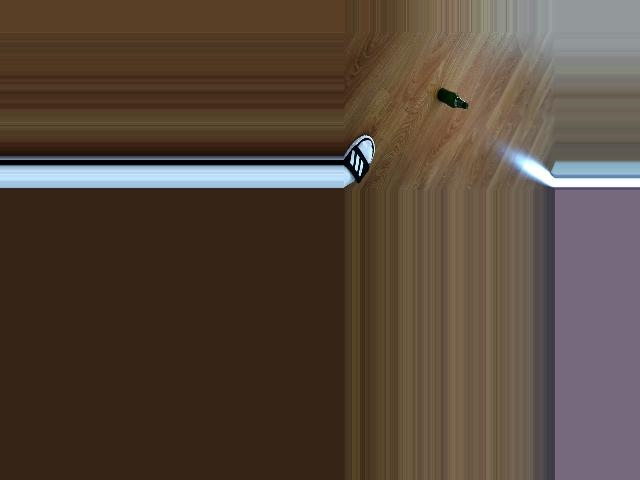beer: (437, 89, 467, 109)
